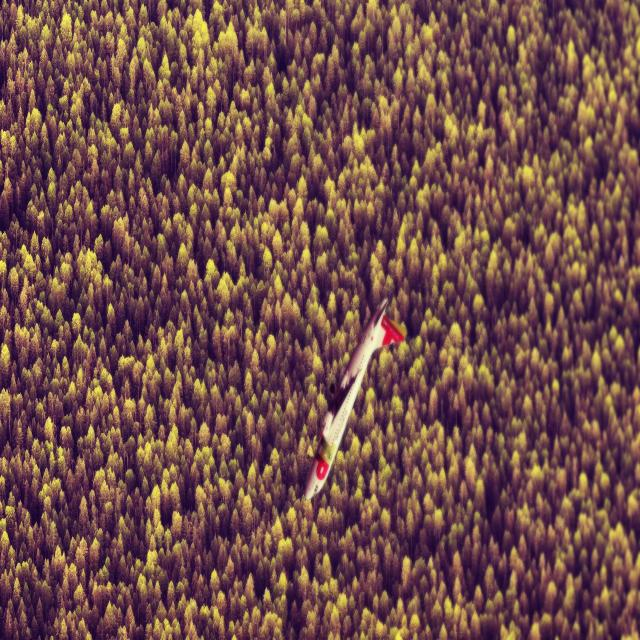airplane: (303, 296, 406, 502)
